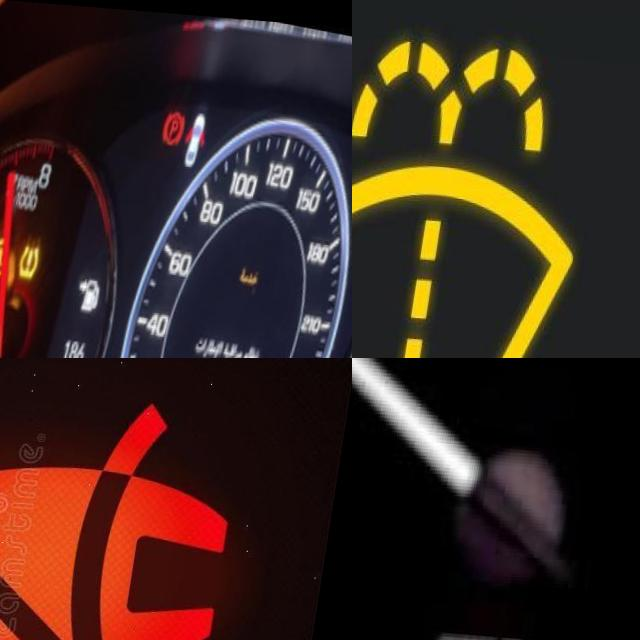Seat Belt: (0, 374, 246, 640)
Washer Fluid: (352, 32, 614, 358)
